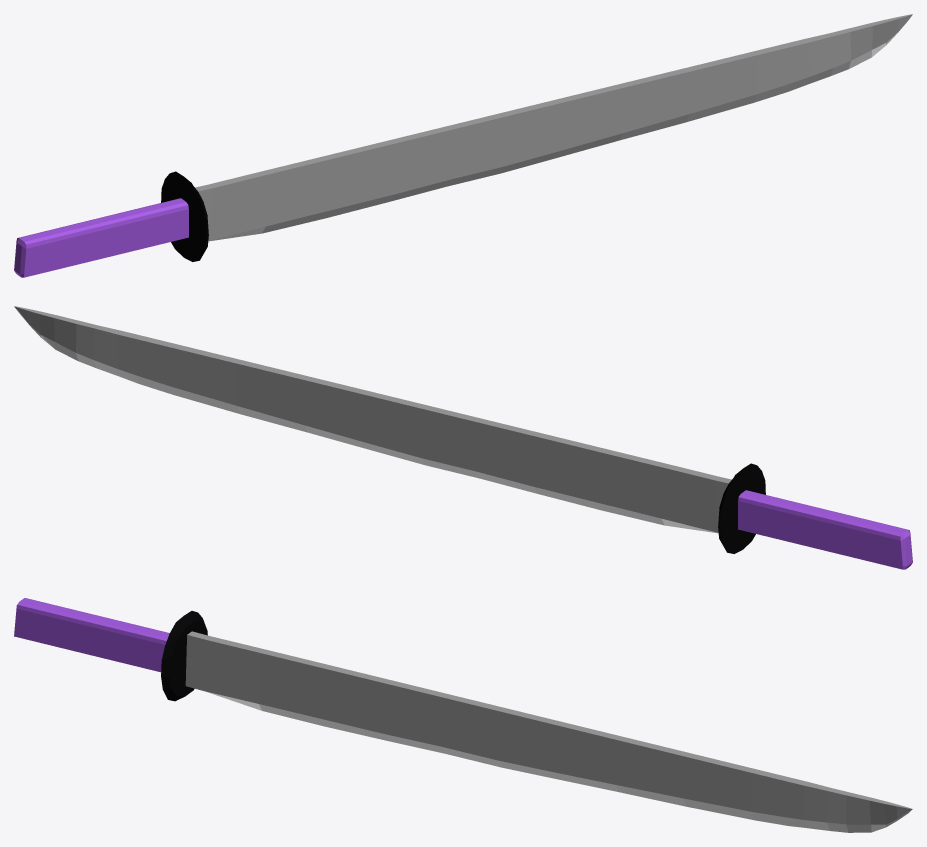
File: katana.fbx
3 renders of one model, top to bottom at view 1: azimuth 30°, elevation 25°; view 2: azimuth 150°, elevation 25°; view 3: azimuth 330°, elevation 25°, orthographic.
Visible parts, largest first — view 1: 平面; view 2: 平面; view 3: 平面.
Boxes of the visible parts, x1,y1,x2,y2 form: 平面: (14,14,912,277); 平面: (14,306,912,569); 平面: (14,598,912,832).
Size of the model in its own units: 2660 by 230 by 236.
